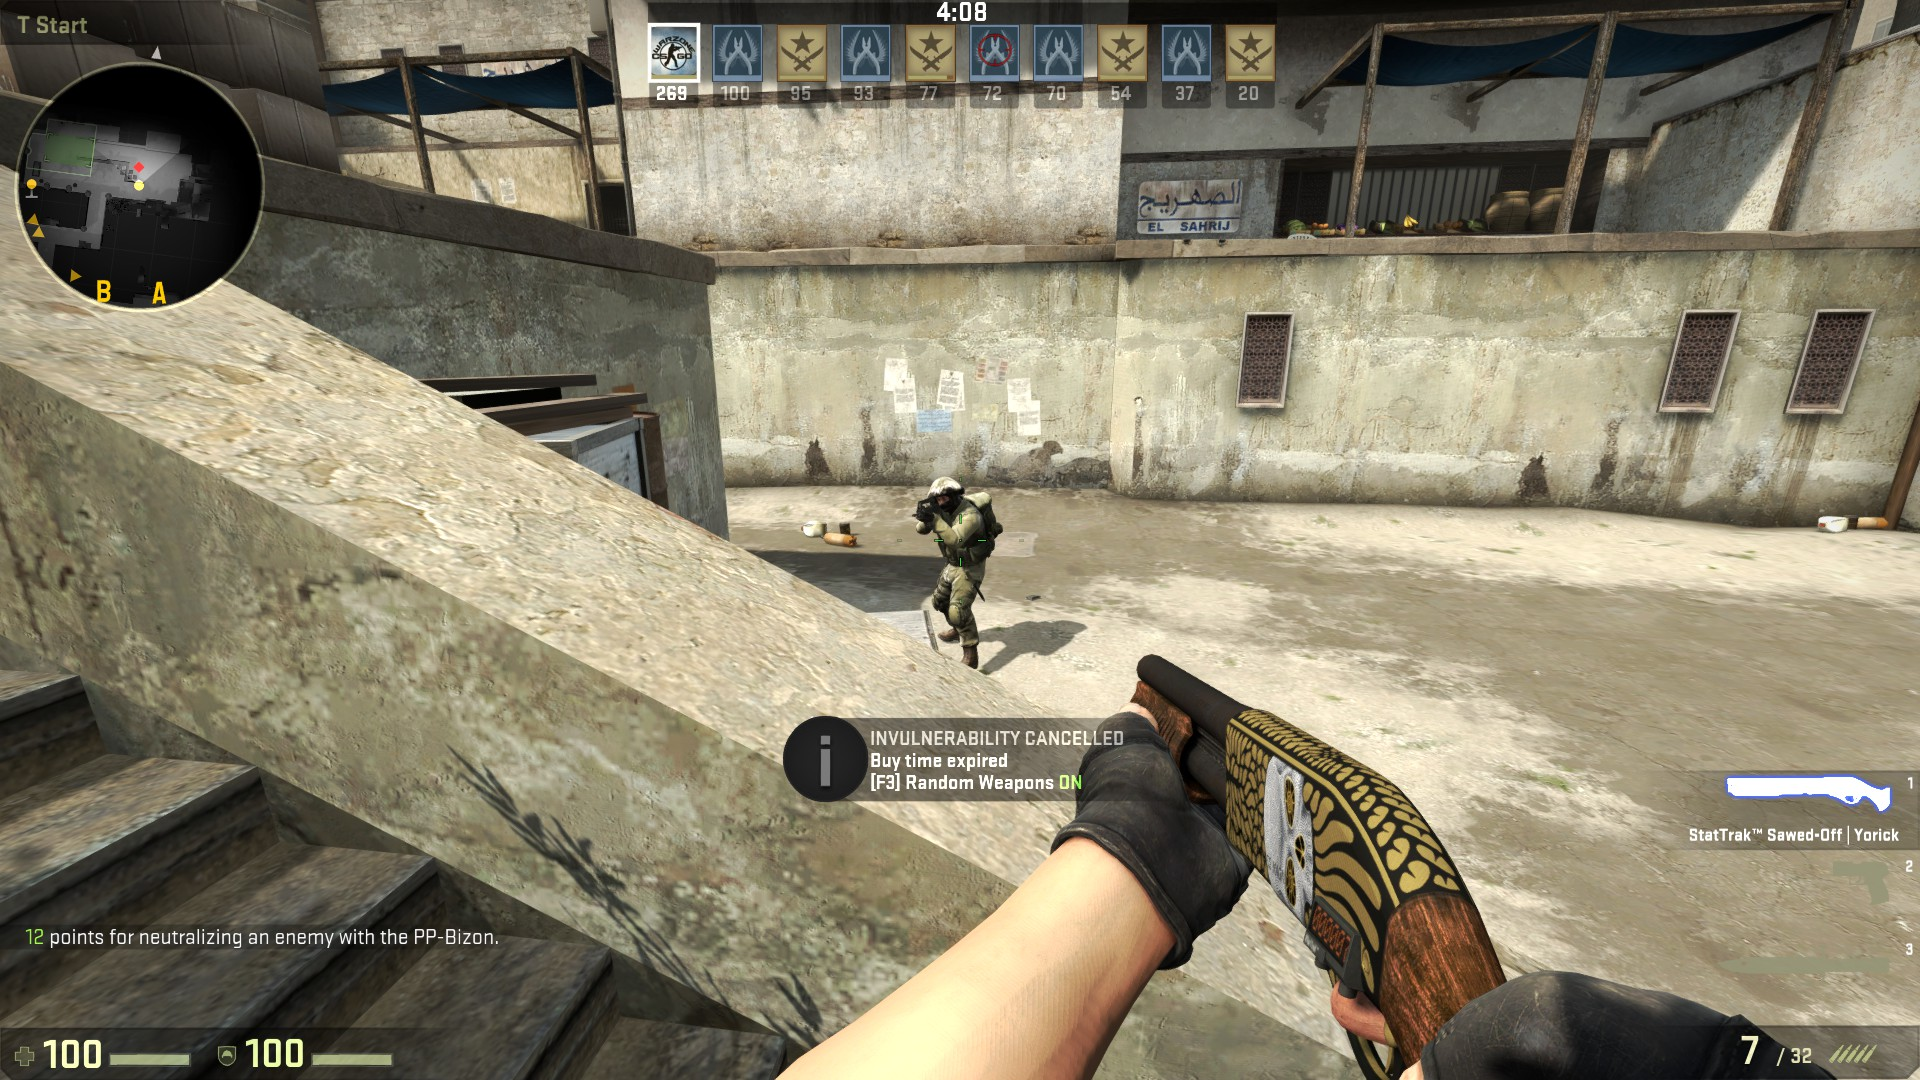c: (922, 476, 993, 665)
ch: (928, 473, 965, 518)
